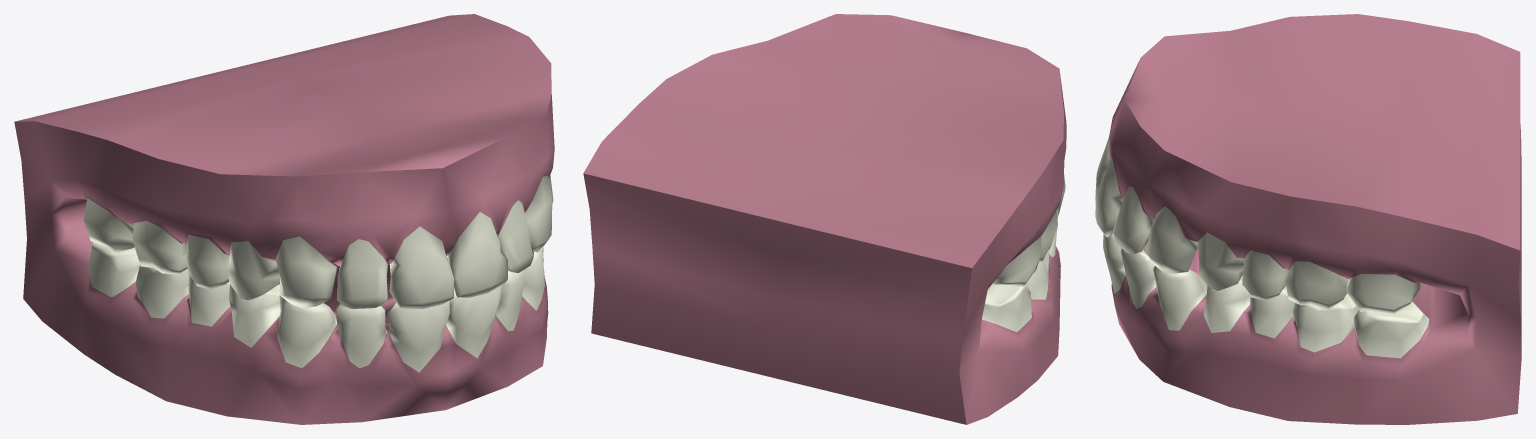
Rendered from Denture.fbx.
The picture shows the model from 3 angles, left to right: view 1: azimuth 30°, elevation 25°; view 2: azimuth 150°, elevation 25°; view 3: azimuth 270°, elevation 25°; orthographic projection. The views are drawn at different scales.
Parts seen in each view (by area): view 1: Dentures; view 2: Dentures; view 3: Dentures.
Part boxes in pixels (box(x1,y1,x2,y2)): Dentures: box(14, 14, 554, 424); Dentures: box(583, 14, 1066, 424); Dentures: box(1095, 14, 1521, 424).
Size of the model in its own units: 1026 by 575 by 917.
